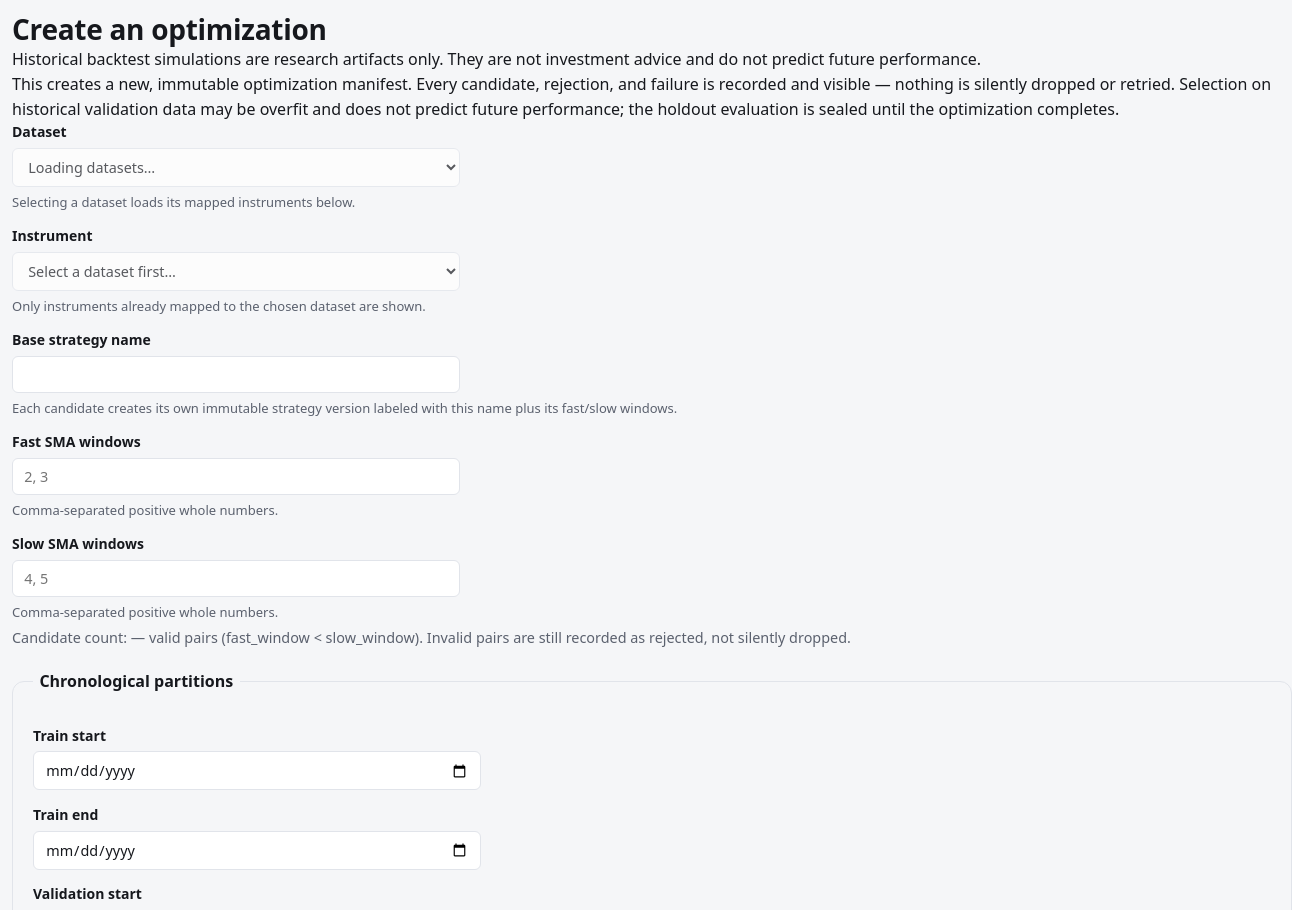
Test: NewOptimizationPage › shows a live, non-evaluating candidate-count preview from the declared grid
The image size is (1292, 910).
In the field labelled "Fast SMA windows": (236, 476) [12, 458, 460, 495], type "2, 6"
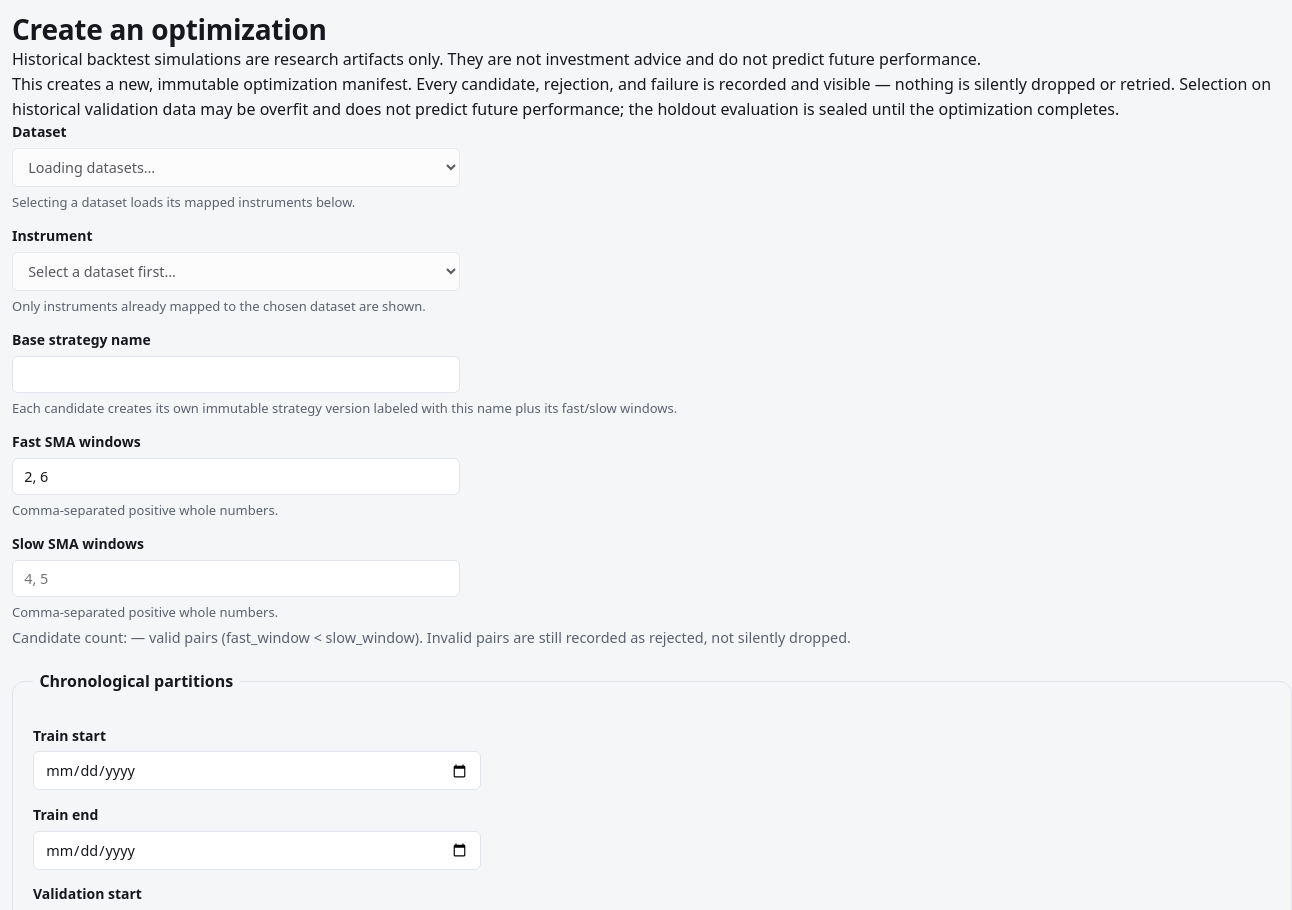
In the field labelled "Slow SMA windows": (236, 578) [12, 560, 460, 597], type "4"
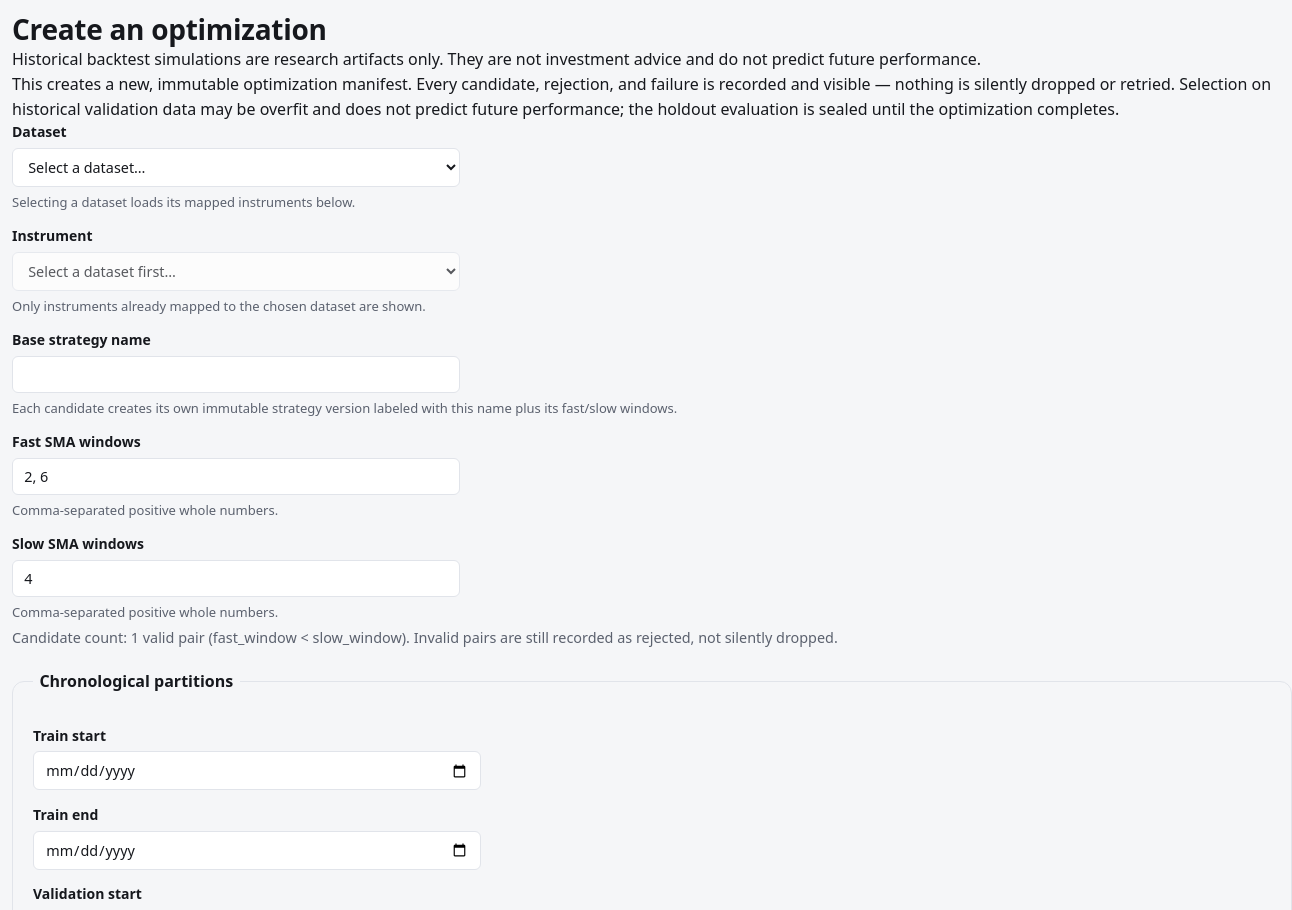
Expected: the text "Candidate count: 1 valid pair" is shown, [12, 628, 838, 647]
